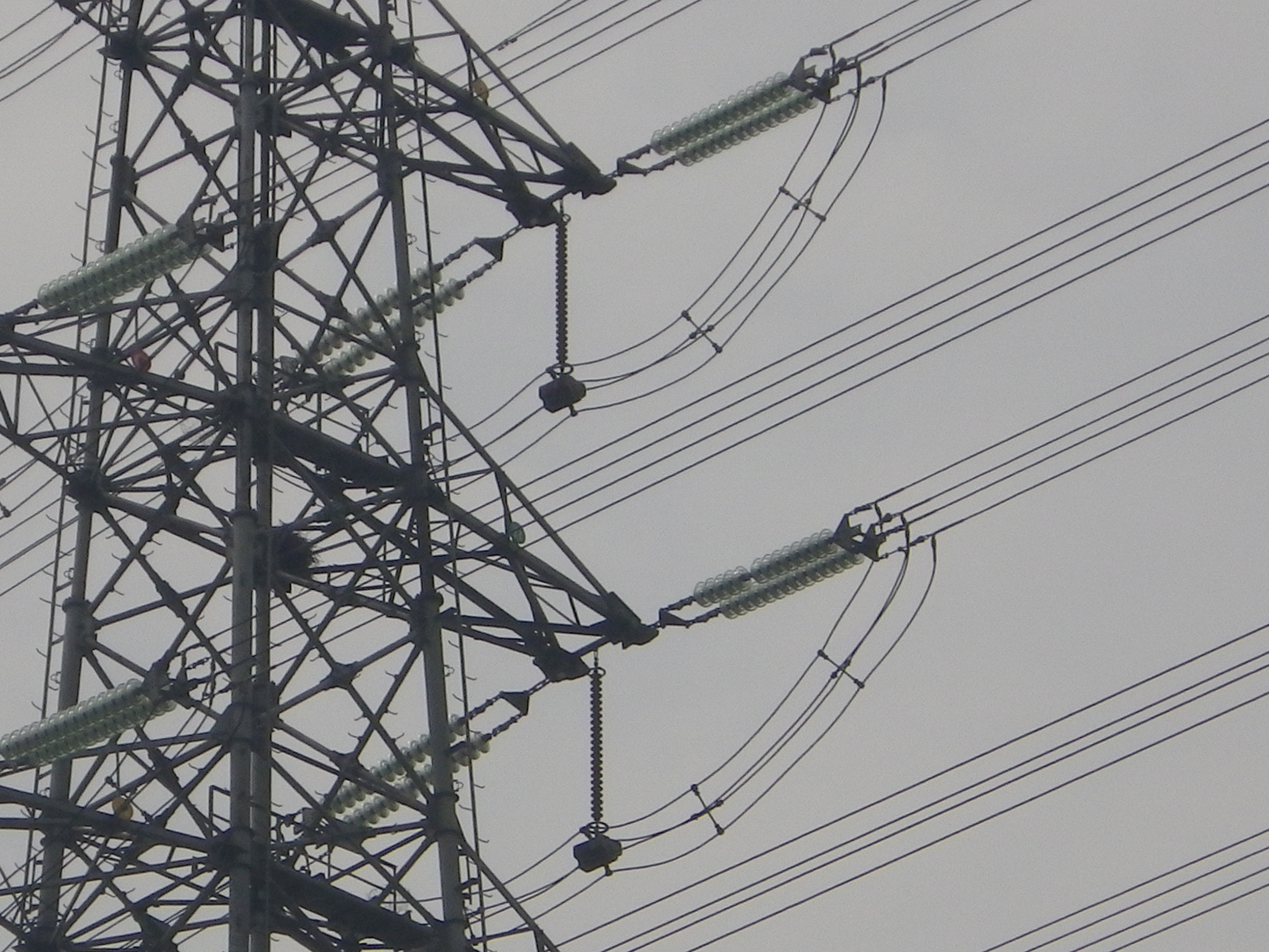绝缘子自爆区域: (740, 563, 754, 586)
